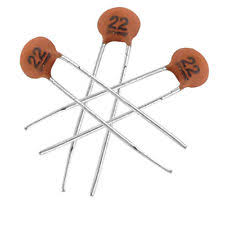ceramic capacitor: (3, 25, 79, 91), (153, 28, 215, 107), (77, 4, 149, 60)
